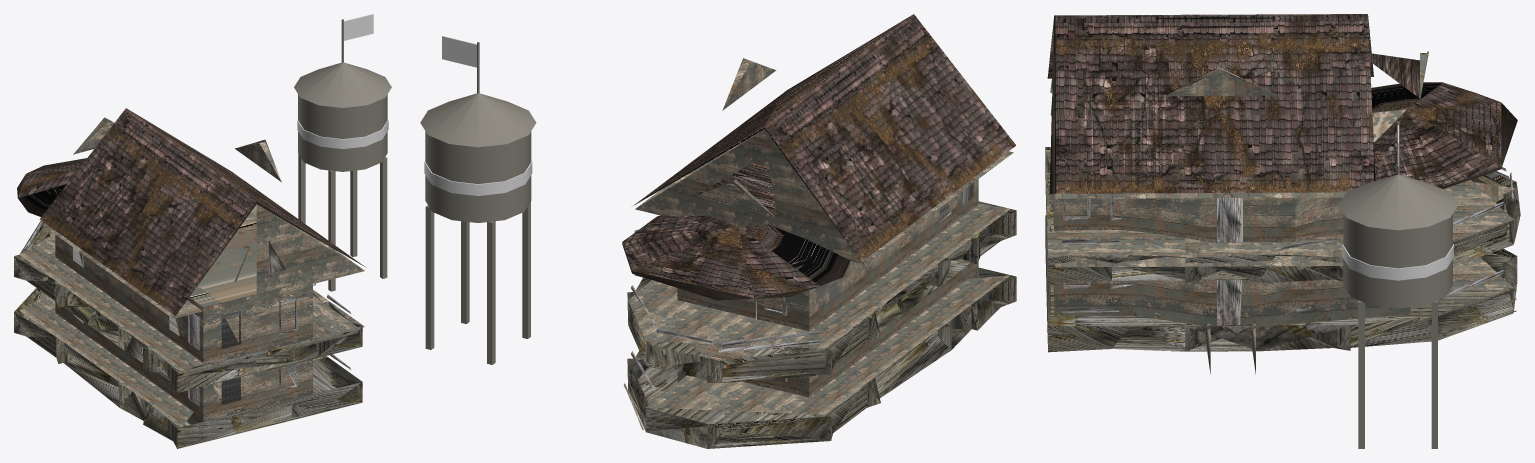
3 renders of one model, left to right at view 1: azimuth 30°, elevation 25°; view 2: azimuth 150°, elevation 25°; view 3: azimuth 270°, elevation 25°, orthographic. The views are drawn at different scales.
Visible parts, largest first — view 1: dweller_building_hq; view 2: dweller_building_hq; view 3: dweller_building_hq.
Boxes of the visible parts, left/top/right/bottom form: dweller_building_hq: left=14, top=14, right=391, bottom=448; dweller_building_hq: left=420, top=14, right=1016, bottom=448; dweller_building_hq: left=1045, top=14, right=1520, bottom=448.
Size of the model in its own units: 19.26 by 13.1 by 18.21.
Materials: 6 (4 with a texture image).
